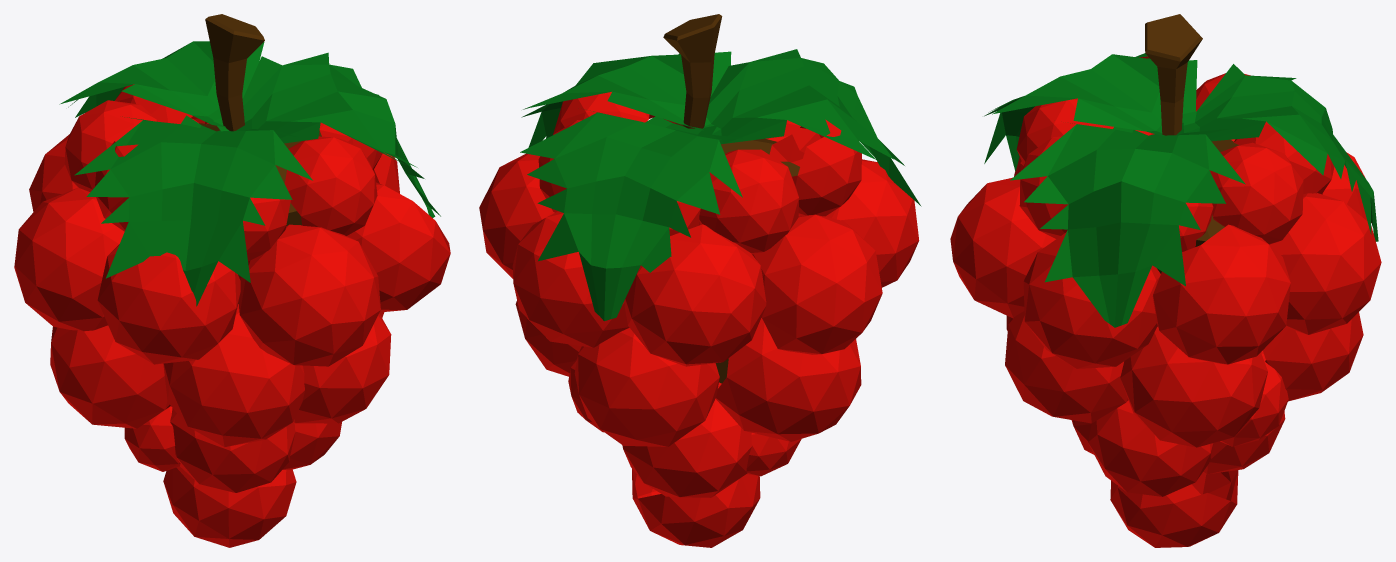
File: Autonomous_Fruit.fbx
The picture shows the model from 3 angles, left to right: view 1: azimuth 30°, elevation 25°; view 2: azimuth 150°, elevation 25°; view 3: azimuth 270°, elevation 25°; orthographic projection.
Visible parts, largest first — view 1: Cylinder.001; view 2: Cylinder.001; view 3: Cylinder.001.
Part boxes in pixels (x1,y1,x2,y2): Cylinder.001: (14,14,450,547); Cylinder.001: (479,14,921,547); Cylinder.001: (950,14,1381,547).
Bounding box in the file's own units: 767 × 1026 × 772.
